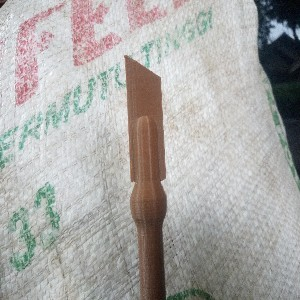cutter: (123, 53, 169, 300)
